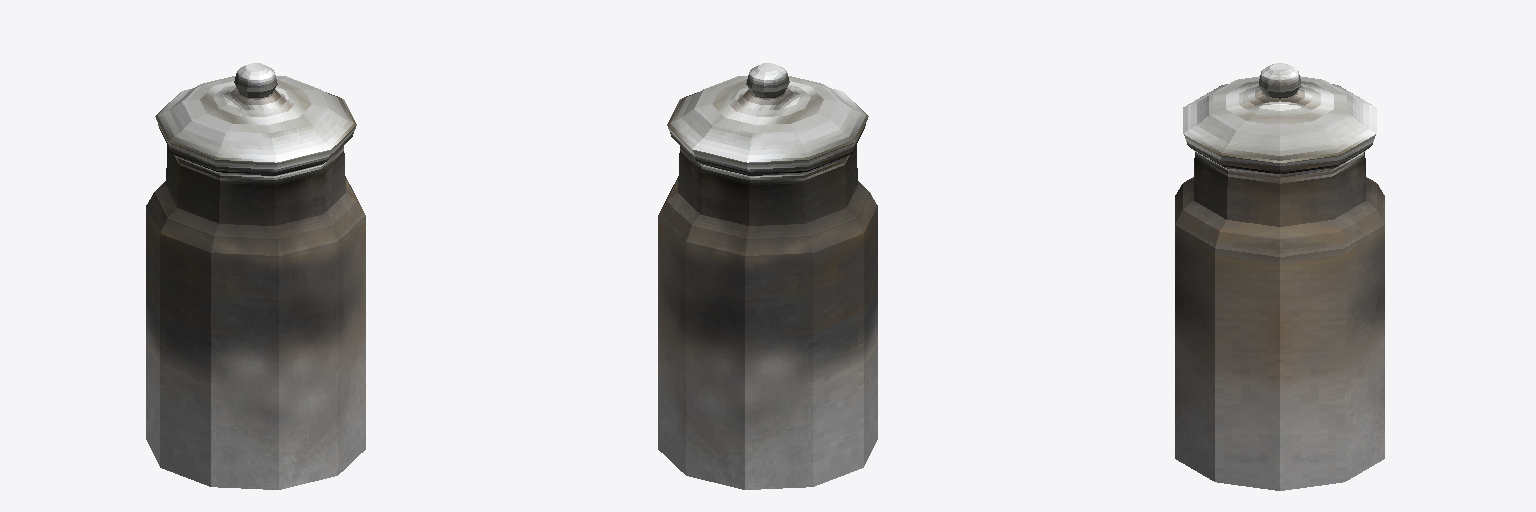
3 views of the same model, side by side, from view 1: azimuth 30°, elevation 25°; view 2: azimuth 150°, elevation 25°; view 3: azimuth 270°, elevation 25° (orthographic).
Visible parts, largest first — view 1: milkjug; view 2: milkjug; view 3: milkjug.
Part boxes in pixels (bbox=[...]): milkjug: bbox=[146, 63, 365, 489]; milkjug: bbox=[658, 63, 877, 489]; milkjug: bbox=[1175, 63, 1384, 490].
Bounding box in the file's own units: 0.2626 × 0.4951 × 0.2498.
Materials: 1 (1 with a texture image).